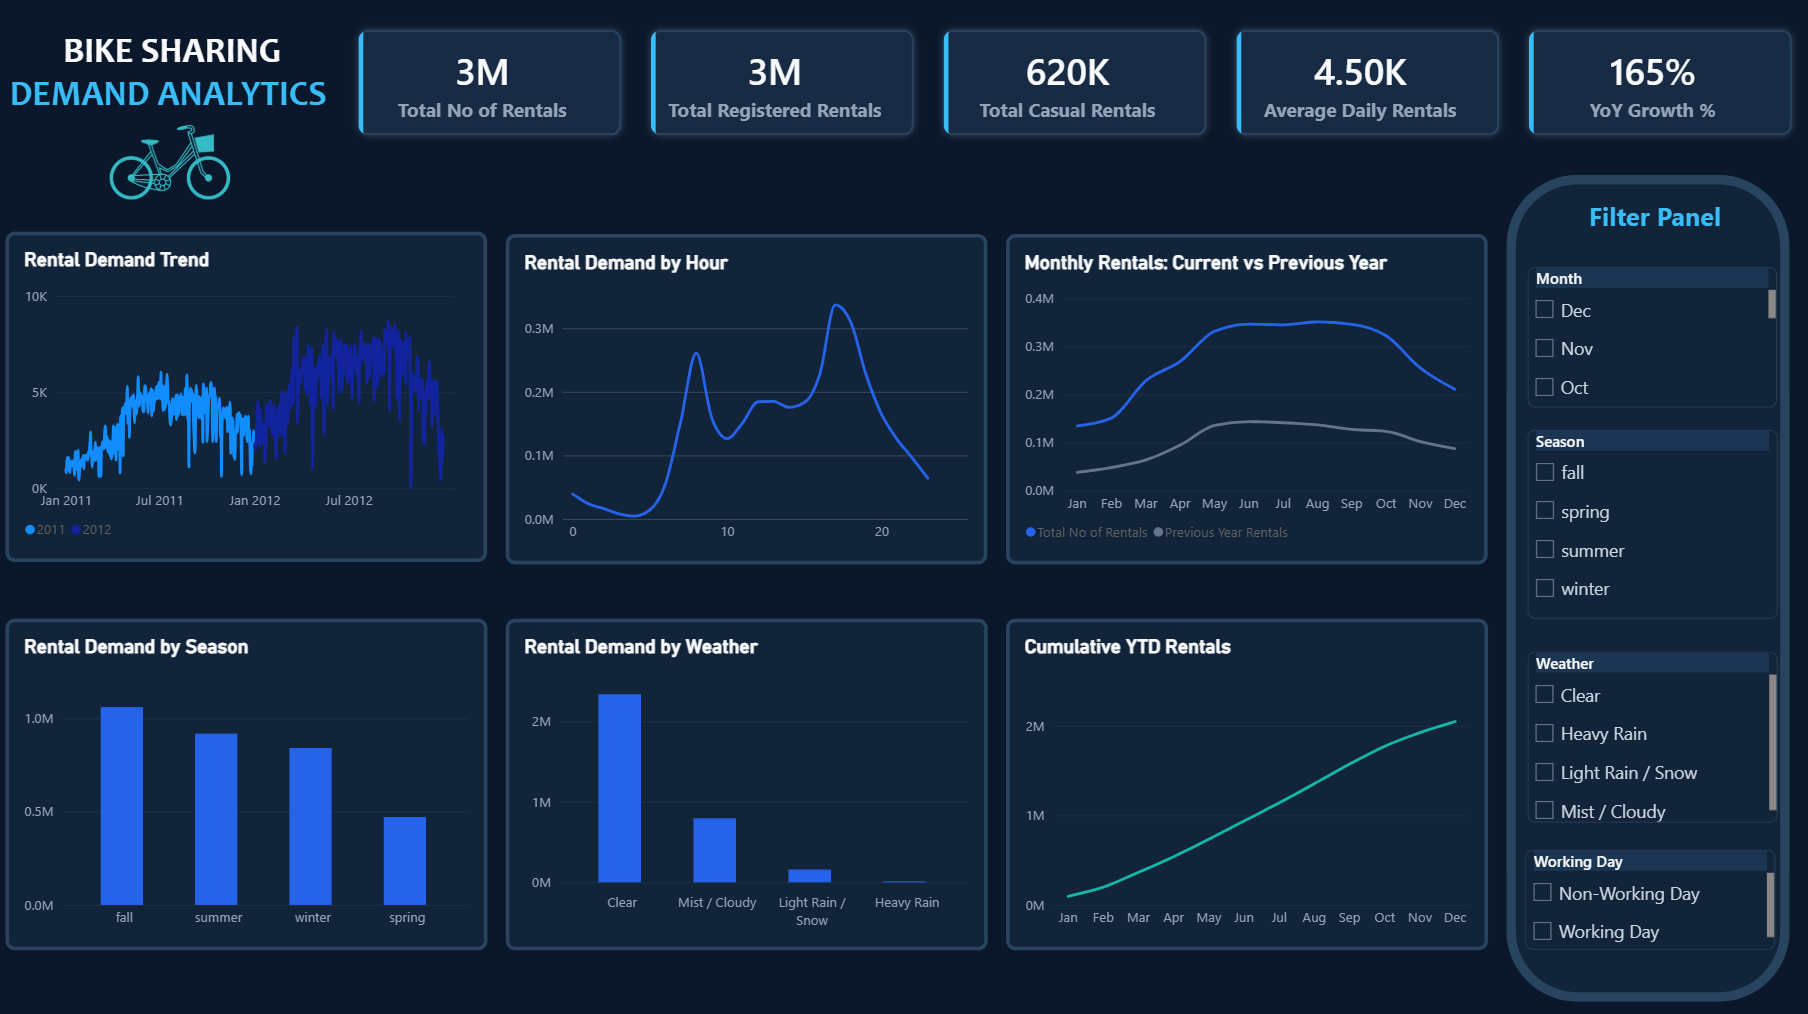

The page's visual inventory and layout, read from the dashboard file:
{"tool":"powerbi","page":{"name":"Page 1","canvas":[1920,1080],"ordinal":0},"visuals":[{"type":"shape","box":[1600,186.5,300,875.7],"z":0},{"type":"textbox","box":[0,32.4,364.9,154.1],"z":1000},{"type":"lineChart","title":"Rental Demand Trend","fields":{"Y":["FactBikeRentals.Total No of Rentals"],"Category":["Dim calender.Date.Variation.Date Hierarchy.Year","Dim calender.Date.Variation.Date Hierarchy.Quarter","Dim calender.Date.Variation.Date Hierarchy.Month","Dim calender.Date.Variation.Date Hierarchy.Day"],"Series":["Dim calender.Year"]},"box":[11.1,248.3,510,350],"z":2000},{"type":"lineChart","title":"Rental Demand by Hour","fields":{"Category":["DimHour.Hour"],"Y":["FactBikeRentals.Total No of Rentals"]},"box":[540.5,250.6,510,350],"z":3000},{"type":"clusteredColumnChart","title":"Rental Demand by Season","fields":{"Y":["FactBikeRentals.Total No of Rentals"],"Category":["FactBikeRentals.Season"]},"box":[10.8,658.1,510.8,351.3],"z":4000},{"type":"clusteredColumnChart","title":"Rental Demand by Weather","fields":{"Y":["FactBikeRentals.Total No of Rentals"],"Category":["DimWeather.Weather"]},"box":[540.5,658.1,510.8,351.3],"z":5000},{"type":"slicer","fields":{"Values":["Dim calender.Month"]},"box":[1621.6,283.8,264,148.6],"z":6000},{"type":"slicer","fields":{"Values":["FactBikeRentals.Season"]},"box":[1621.6,456.8,264.9,200],"z":7000},{"type":"slicer","fields":{"Values":["DimWeather.Weather"]},"box":[1621.6,691.9,264.9,181],"z":8000},{"type":"slicer","fields":{"Values":["FactBikeRentals.Working Day"]},"box":[1618.9,902.7,264.9,105.4],"z":9000},{"type":"lineChart","title":"Monthly Rentals: Current vs Previous Year","fields":{"Y":["FactBikeRentals.Total No of Rentals","FactBikeRentals.Previous Year Rentals"],"Category":["Dim calender.Month"]},"box":[1070.3,250.6,510,350],"z":10000},{"type":"lineChart","title":"Cumulative YTD Rentals","fields":{"Category":["Dim calender.Month"],"Y":["FactBikeRentals.YTD Rentals"]},"box":[1070.3,658.1,510.8,351.3],"z":11000},{"type":"cardVisual","fields":{"Data":["FactBikeRentals.Total No of Rentals","FactBikeRentals.Total Registered Rentals","FactBikeRentals.Total Casual Rentals","FactBikeRentals.Average Daily Rentals","FactBikeRentals.YoY Growth %"]},"box":[364.3,14.3,1557.1,150],"z":12000},{"type":"textbox","box":[1686.5,213.5,213,49.3],"z":13000},{"type":"image","box":[94.6,132.4,178.4,81.1],"z":13001}]}

Visuals, with their boxes in screenshot pixels (x1, y1, x2, y2), scaled from the page's 1920x1080 canvas onto the 1808x1014 screenshot:
shape: [x1=1507, y1=175, x2=1789, y2=997]
textbox: [x1=0, y1=30, x2=344, y2=175]
"Rental Demand Trend" lineChart: [x1=10, y1=233, x2=491, y2=562]
"Rental Demand by Hour" lineChart: [x1=509, y1=235, x2=989, y2=564]
"Rental Demand by Season" clusteredColumnChart: [x1=10, y1=618, x2=491, y2=948]
"Rental Demand by Weather" clusteredColumnChart: [x1=509, y1=618, x2=990, y2=948]
slicer - Dim calender.Month: [x1=1527, y1=266, x2=1776, y2=406]
slicer - FactBikeRentals.Season: [x1=1527, y1=429, x2=1776, y2=617]
slicer - DimWeather.Weather: [x1=1527, y1=650, x2=1776, y2=820]
slicer - FactBikeRentals.Working Day: [x1=1524, y1=848, x2=1774, y2=946]
"Monthly Rentals: Current vs Previous Year" lineChart: [x1=1008, y1=235, x2=1488, y2=564]
"Cumulative YTD Rentals" lineChart: [x1=1008, y1=618, x2=1489, y2=948]
cardVisual - FactBikeRentals.Total No of Rentals x FactBikeRentals.Total Registered Rentals: [x1=343, y1=13, x2=1807, y2=154]
textbox: [x1=1588, y1=200, x2=1789, y2=247]
image: [x1=89, y1=124, x2=257, y2=200]
